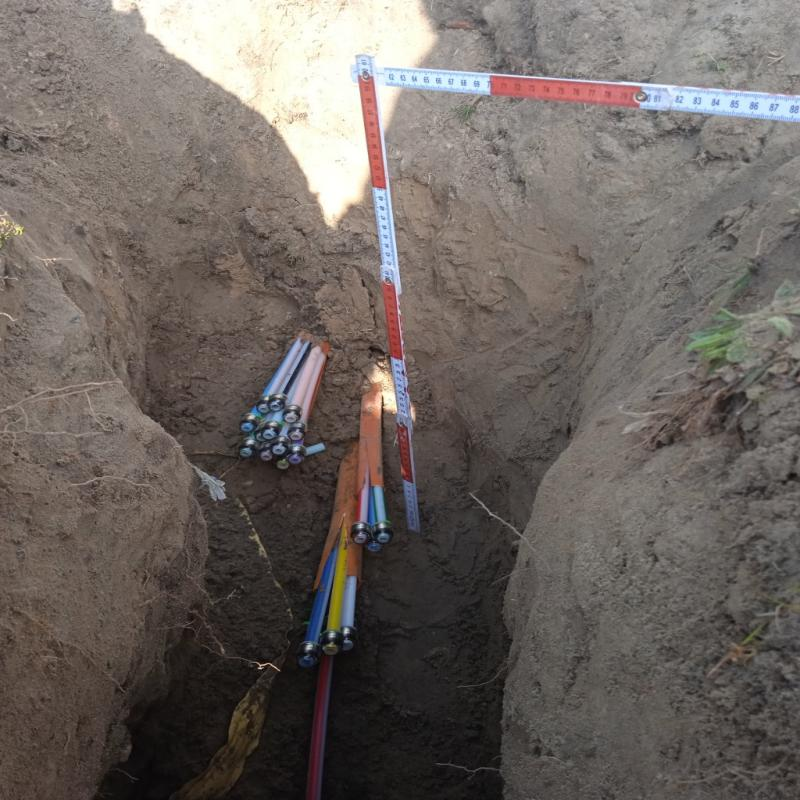Orang-Speednetrohrchen: (301, 382, 394, 668)
